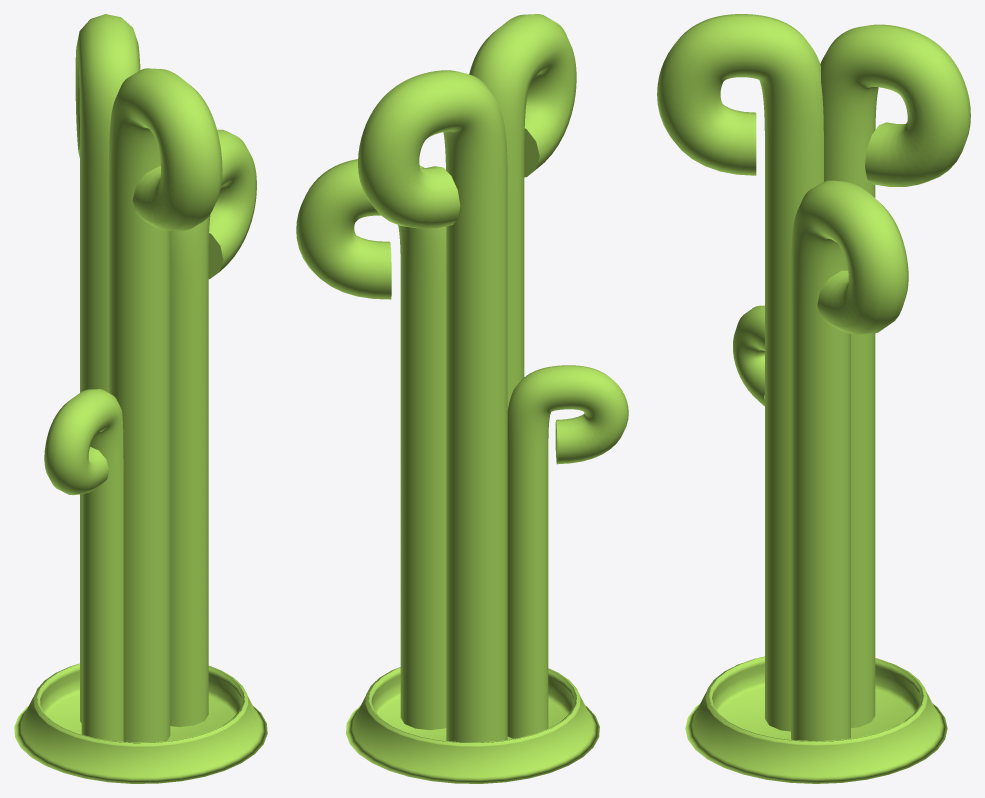
Rendered from Plant.fbx.
3 renders of one model, left to right at view 1: azimuth 30°, elevation 25°; view 2: azimuth 150°, elevation 25°; view 3: azimuth 270°, elevation 25°, orthographic. The views are drawn at different scales.
Visible parts, largest first — view 1: Planta; view 2: Planta; view 3: Planta.
Part boxes in pixels (x1=…): Planta: x1=14, y1=14, x2=267, y2=783; Planta: x1=296, y1=14, x2=628, y2=783; Planta: x1=657, y1=14, x2=970, y2=783.
Size of the model in its own units: 90.13 by 226 by 89.38.
